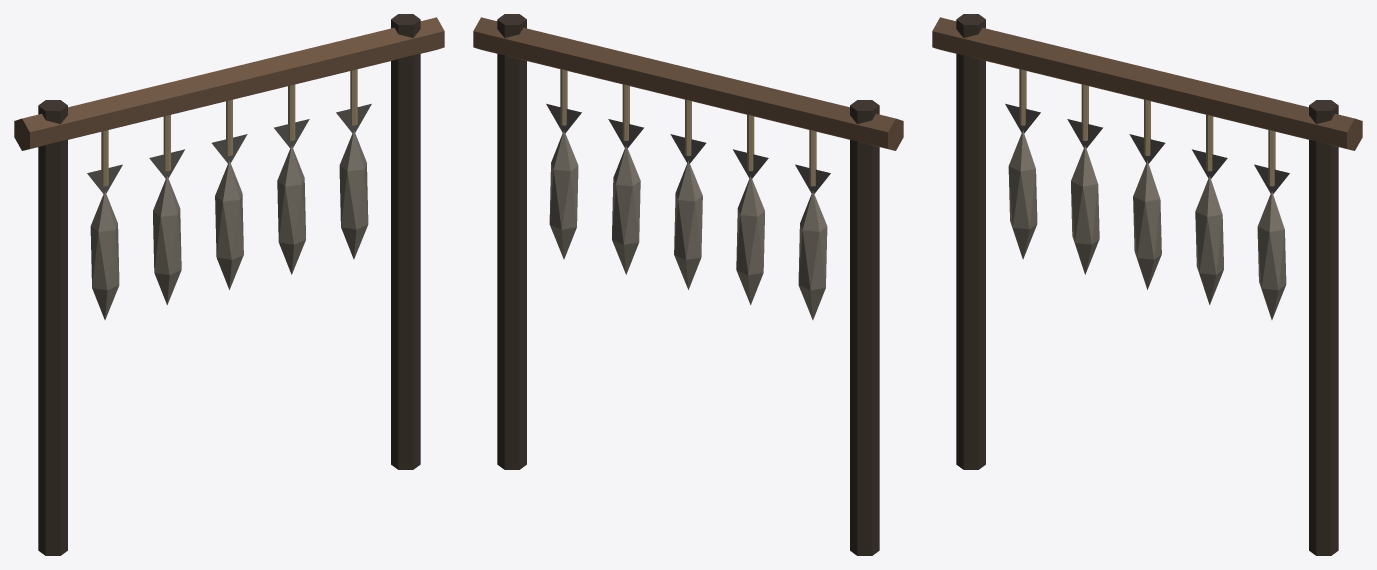
The model's file is fish_rack.glb.
The picture shows the model from 3 angles, left to right: view 1: azimuth 30°, elevation 25°; view 2: azimuth 150°, elevation 25°; view 3: azimuth 330°, elevation 25°; orthographic projection.
Visible parts, largest first — view 1: drying beam, drying rack post.001, drying rack post, salted fish, salted fish.004, salted fish.001, salted fish.002, salted fish.003; view 2: drying beam, drying rack post.001, drying rack post, salted fish, salted fish.004, salted fish.001, salted fish.002, salted fish.003; view 3: drying beam, drying rack post, drying rack post.001, salted fish, salted fish.004, salted fish.002, salted fish.001, salted fish.003.
Part boxes in pixels (<box>): drying beam: <box>14,17,444,150</box>; drying rack post.001: <box>391,14,420,469</box>; drying rack post: <box>38,100,67,555</box>; salted fish: <box>90,191,119,319</box>; salted fish.004: <box>339,130,368,259</box>; salted fish.001: <box>153,176,181,304</box>; salted fish.002: <box>215,160,243,289</box>; salted fish.003: <box>277,145,305,274</box>; drying beam: <box>473,17,903,150</box>; drying rack post.001: <box>497,14,526,469</box>; drying rack post: <box>850,100,879,555</box>; salted fish: <box>798,191,827,319</box>; salted fish.004: <box>549,130,578,259</box>; salted fish.001: <box>736,176,764,304</box>; salted fish.002: <box>674,160,702,289</box>; salted fish.003: <box>612,145,640,274</box>; drying beam: <box>932,17,1362,150</box>; drying rack post: <box>956,14,985,469</box>; drying rack post.001: <box>1309,100,1338,555</box>; salted fish: <box>1008,130,1037,259</box>; salted fish.004: <box>1257,191,1286,319</box>; salted fish.002: <box>1133,160,1161,289</box>; salted fish.001: <box>1071,145,1099,274</box>; salted fish.003: <box>1195,176,1223,304</box>.
Bounding box in the file's own units: 0.8 × 0.82 × 0.052.
